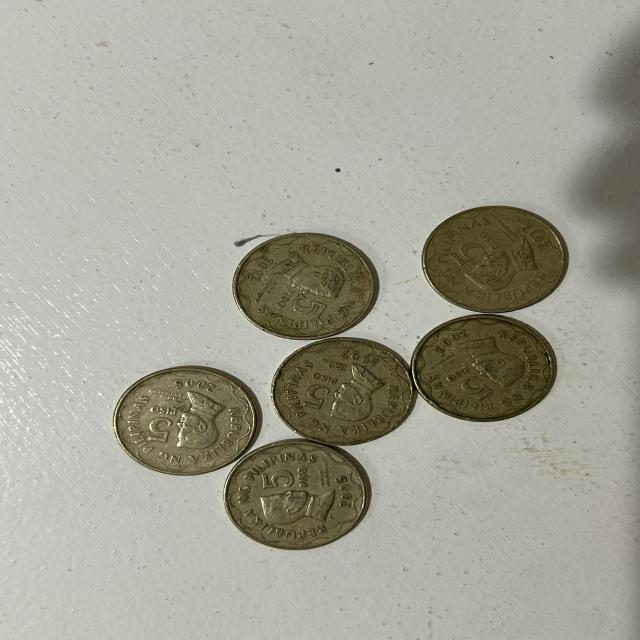5_Old_Front: (266, 286, 335, 326), (438, 360, 498, 406), (295, 368, 339, 415), (142, 407, 187, 447), (257, 461, 316, 491), (448, 231, 492, 266)
